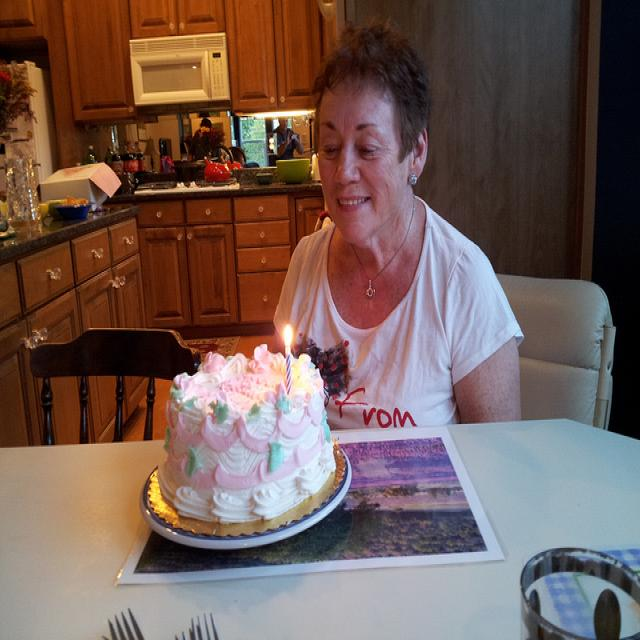chair: (28, 326, 202, 447), (499, 278, 616, 433)
dining table: (2, 416, 640, 632)
